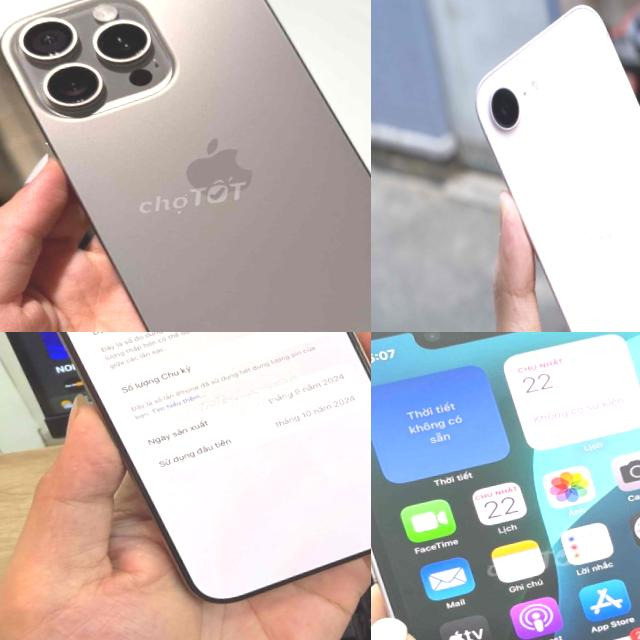gen_14: (371, 332, 640, 640)
gen_15: (0, 0, 371, 332)
gen_16: (58, 332, 371, 601)
gen_17: (463, 0, 640, 332)
scratch: (14, 0, 173, 119)
